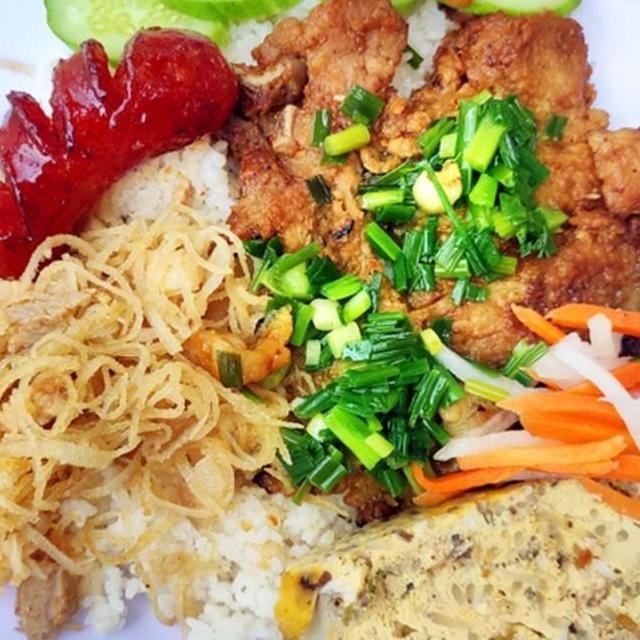bi: (0, 199, 306, 597)
cha: (269, 458, 640, 640)
com: (50, 456, 364, 640), (84, 130, 250, 242)
com suon bi cha: (0, 0, 640, 640)
dua chua: (406, 296, 640, 605)
suon: (217, 0, 640, 380)
